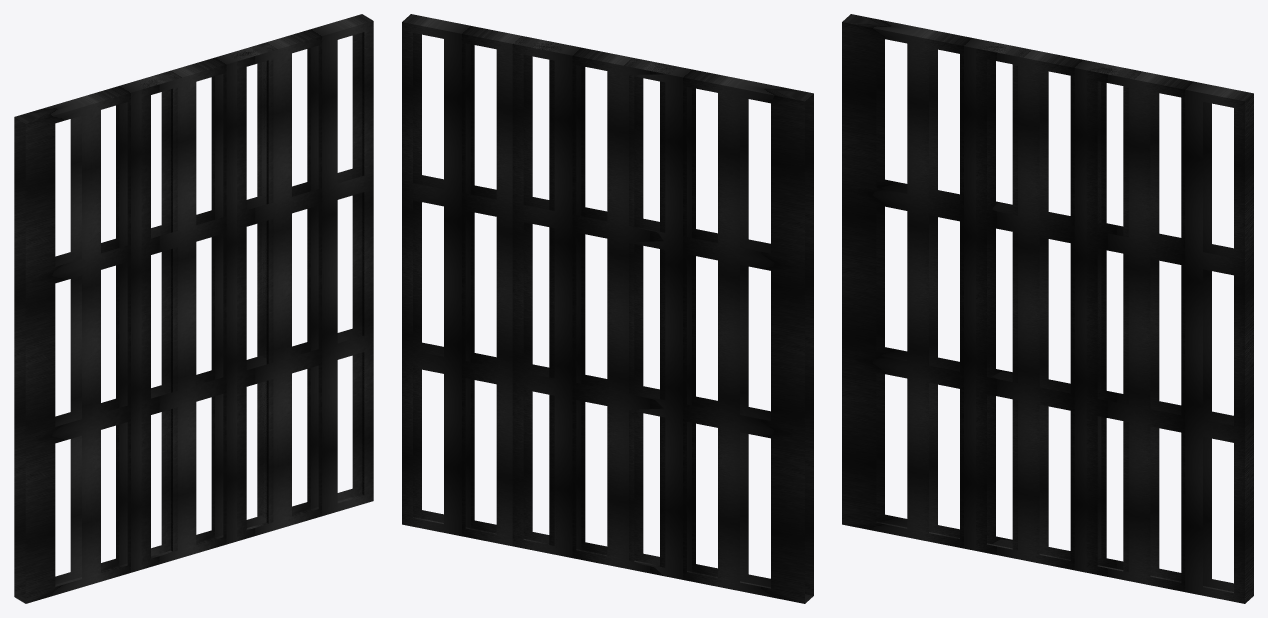
The model's file is puerta2.obj.
3 renders of one model, left to right at view 1: azimuth 30°, elevation 25°; view 2: azimuth 150°, elevation 25°; view 3: azimuth 330°, elevation 25°, orthographic. The views are drawn at different scales.
Parts seen in each view (by area): view 1: Grid.001; view 2: Grid.001; view 3: Grid.001.
Boxes of the visible parts, x1=… form: Grid.001: x1=14, y1=14, x2=373, y2=603; Grid.001: x1=402, y1=14, x2=813, y2=603; Grid.001: x1=842, y1=14, x2=1253, y2=603.
Size of the model in its own units: 0.4018 by 0.501 by 0.054.
1 material, 1 textured.
